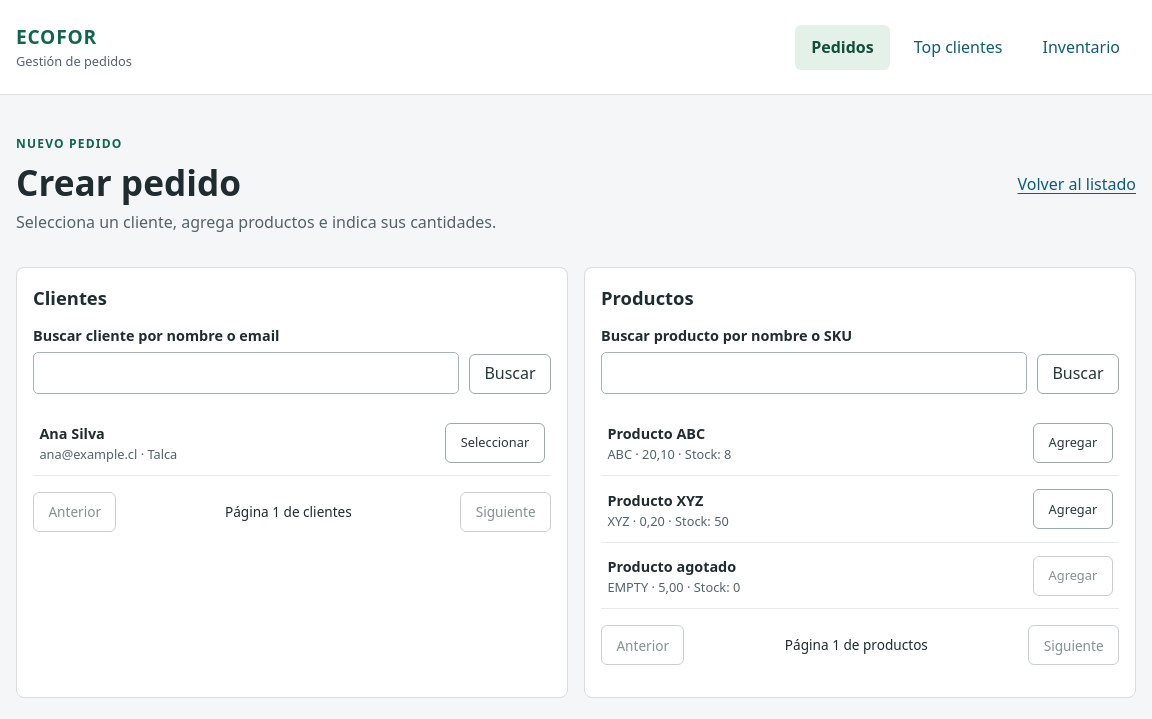
Scenario: Creación › conserva el comprobante creado aunque falle la lectura posterior del detalle
Click the button named "Seleccionar Ana Silva".
click(495, 442)  # box x1=445 y1=422 x2=545 y2=462
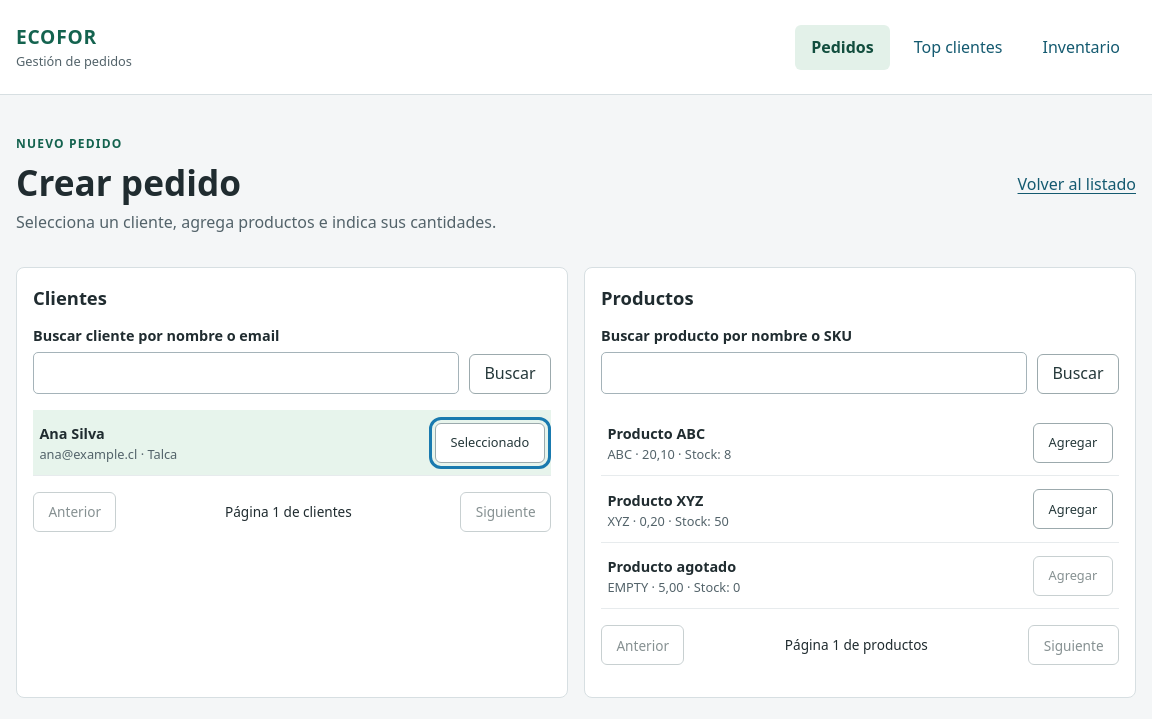
Click the button named "Agregar Producto ABC".
click(1073, 442)  # box x1=1033 y1=422 x2=1113 y2=462
(page scrolled)
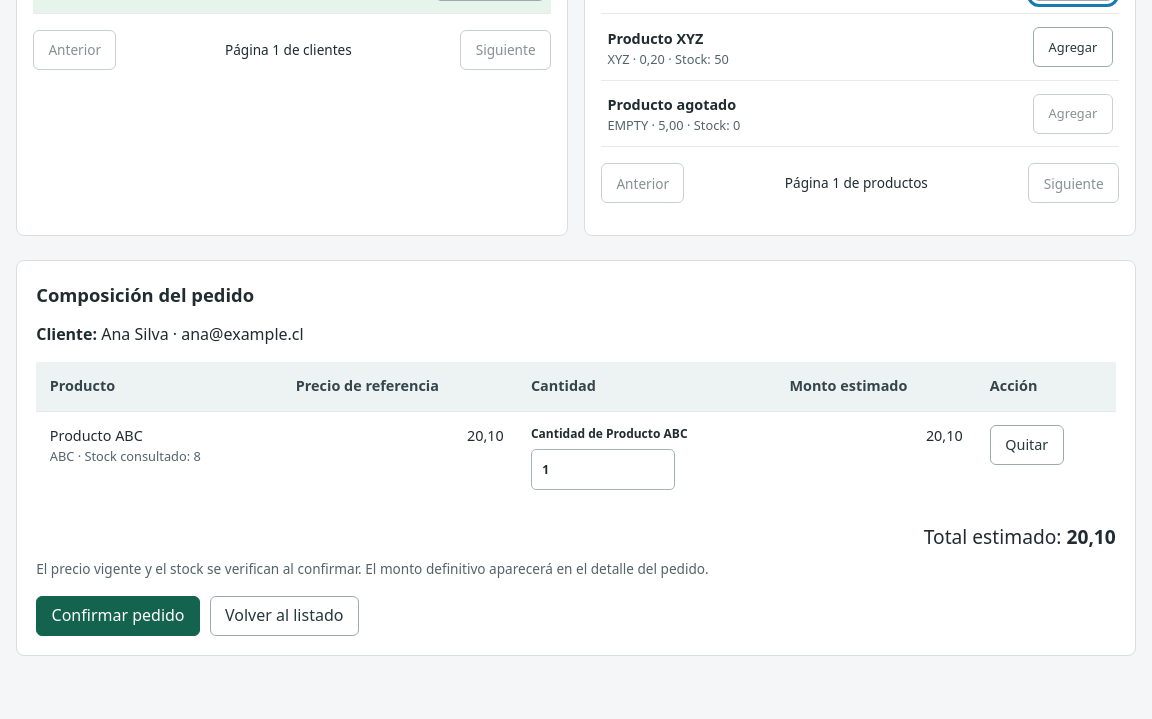
Click the button "Confirmar pedido".
click(118, 616)  # box x1=36 y1=596 x2=200 y2=636
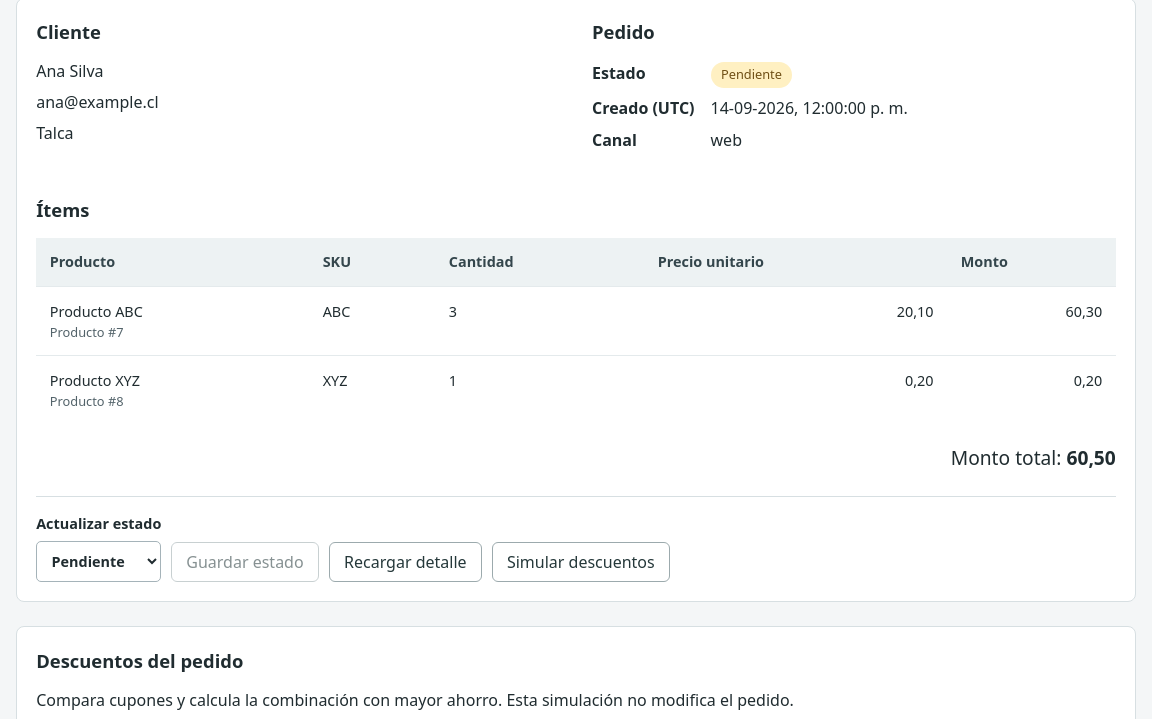
Check: the text "60,50" is shown, box x1=1066 y1=444 x2=1116 y2=471
